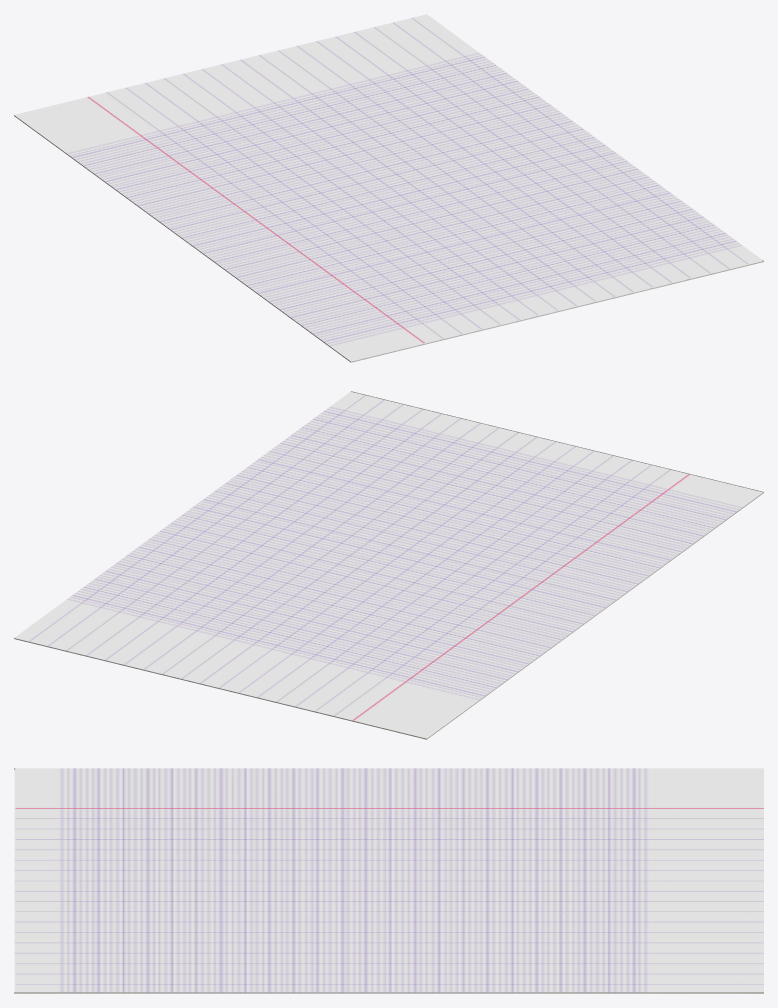
Rendered from Paper_sheet_tiles.FBX.
The picture shows the model from 3 angles, top to bottom: view 1: azimuth 30°, elevation 25°; view 2: azimuth 150°, elevation 25°; view 3: azimuth 270°, elevation 25°; orthographic projection. The views are drawn at different scales.
Visible parts, largest first — view 1: Paper_sheet_tiles; view 2: Paper_sheet_tiles; view 3: Paper_sheet_tiles.
Boxes of the visible parts, x1,y1,x2,y2 form: Paper_sheet_tiles: [14, 14, 763, 362]; Paper_sheet_tiles: [14, 391, 763, 739]; Paper_sheet_tiles: [14, 768, 763, 993].
Size of the model in its own units: 8.27 by 0.0197 by 11.69.
Materials: 1 (1 with a texture image).
